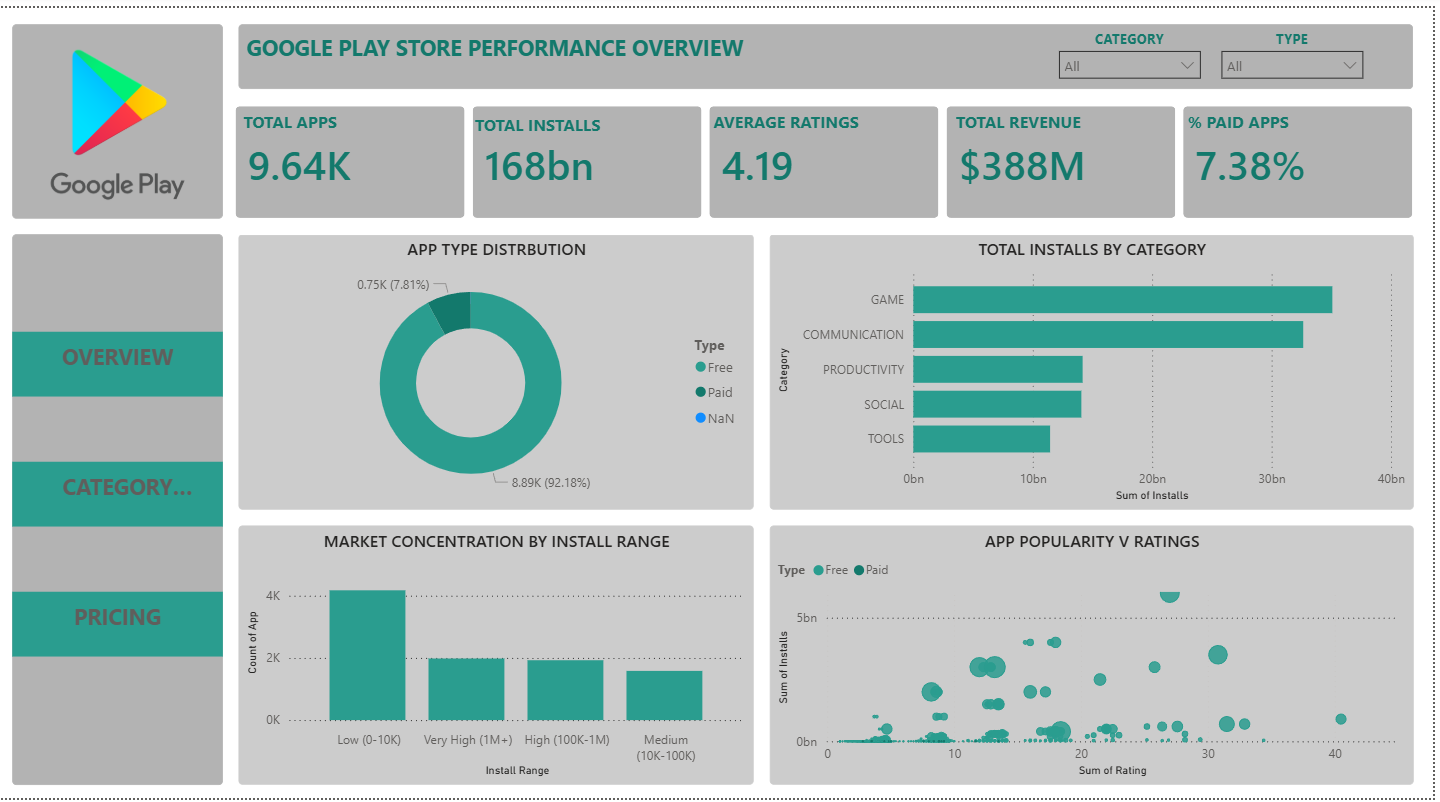

What the dashboard file says about the page in this screenshot:
{"tool":"powerbi","page":{"name":"OVERVIEW","canvas":[1420,780],"ordinal":0},"visuals":[{"type":"textbox","box":[1200,16,160,32],"z":0,"group":"g4"},{"type":"group","id":"g1","title":"Group 1","box":[240,224,1152,544],"z":0},{"type":"clusteredBarChart","title":"TOTAL INSTALLS BY CATEGORY","fields":{"Category":["google_play_store_dataset.Category"],"Y":["Sum(google_play_store_dataset.Installs)"]},"box":[764.4,224,635.6,272],"z":0,"group":"g1"},{"type":"group","id":"g2","title":"Group 5","box":[1040,16,320,64],"z":1000,"group":"g4"},{"type":"cardVisual","fields":{"Data":["Count(google_play_store_dataset.App)","Sum(google_play_store_dataset.Installs)","Avg(google_play_store_dataset.Rating)","Sum(google_play_store_dataset.Revenue)","google_play_store_dataset.% Paid Apps"]},"box":[220,80,1200,144],"z":1000},{"type":"donutChart","title":"APP TYPE DISTRBUTION","fields":{"Category":["google_play_store_dataset.Type"],"Y":["Count(google_play_store_dataset.App)"]},"box":[240,224,508.5,272],"z":1000,"group":"g1"},{"type":"textbox","box":[240,96,224,48],"z":2000,"group":"g3"},{"type":"textbox","box":[16,224,208,544],"z":2000},{"type":"scatterChart","title":"APP POPULARITY V RATINGS","fields":{"X":["Sum(google_play_store_dataset.Rating)"],"Y":["Sum(google_play_store_dataset.Installs)"],"Size":["Sum(google_play_store_dataset.Reviews)"],"Series":["google_play_store_dataset.Type"],"Category":["google_play_store_dataset.App"]},"box":[764.4,512,635.6,256],"z":2000,"group":"g1"},{"type":"group","id":"g3","title":"Group 2","box":[240,96,1152,32],"z":3000},{"type":"textbox","box":[464,96,240,48],"z":3000,"group":"g3"},{"type":"columnChart","title":"MARKET CONCENTRATION BY INSTALL RANGE","fields":{"Category":["google_play_store_dataset.Install Range"],"Y":["Count(google_play_store_dataset.App)"]},"box":[240,512,508.5,256],"z":3000,"group":"g1"},{"type":"textbox","box":[16,16,208,192],"z":4000},{"type":"textbox","box":[704,96,224,48],"z":4000,"group":"g3"},{"type":"textbox","box":[240,16,1160,64],"z":5000},{"type":"textbox","box":[944,96,224,48],"z":5000,"group":"g3"},{"type":"image","box":[16,16,208,192],"z":6000},{"type":"textbox","box":[1168,96,224,48],"z":6000,"group":"g3"},{"type":"group","id":"g4","title":"Group 4","box":[1040,16,320,64],"z":7000},{"type":"slicer","fields":{"Values":["google_play_store_dataset.Category"]},"box":[1040,32,160,48],"z":7000,"group":"g5"},{"type":"slicer","fields":{"Values":["google_play_store_dataset.Type"]},"box":[1200,32,160,48],"z":8000,"group":"g2"},{"type":"textbox","box":[1040,16,160,32],"z":9000,"group":"g5"},{"type":"shape","box":[16,320,208,64],"z":10000},{"type":"group","id":"g5","title":"Group 3","box":[1040,16,160,64],"z":10001,"group":"g2"},{"type":"shape","box":[16,448,208,64],"z":11000},{"type":"shape","box":[16,576,208,64],"z":12000},{"type":"actionButton","box":[16,448,208,48],"z":12250},{"type":"actionButton","box":[16,320,208,48],"z":12500},{"type":"actionButton","box":[16,576,208,48],"z":13000}]}

Visuals, with their boxes in screenshot pixels (x1, y1, x2, y2), scaled from the page's 1420x780 canvas onto the 1440x802 screenshot:
textbox: pyautogui.locateOnScreen(1217, 16, 1379, 49)
"Group 1" group: pyautogui.locateOnScreen(243, 230, 1412, 790)
"TOTAL INSTALLS BY CATEGORY" clusteredBarChart: pyautogui.locateOnScreen(775, 230, 1420, 510)
"Group 5" group: pyautogui.locateOnScreen(1055, 16, 1379, 82)
cardVisual - Count(google_play_store_dataset.App) x Sum(google_play_store_dataset.Installs): pyautogui.locateOnScreen(223, 82, 1439, 230)
"APP TYPE DISTRBUTION" donutChart: pyautogui.locateOnScreen(243, 230, 759, 510)
textbox: pyautogui.locateOnScreen(243, 99, 471, 148)
textbox: pyautogui.locateOnScreen(16, 230, 227, 790)
"APP POPULARITY V RATINGS" scatterChart: pyautogui.locateOnScreen(775, 526, 1420, 790)
"Group 2" group: pyautogui.locateOnScreen(243, 99, 1412, 132)
textbox: pyautogui.locateOnScreen(471, 99, 714, 148)
"MARKET CONCENTRATION BY INSTALL RANGE" columnChart: pyautogui.locateOnScreen(243, 526, 759, 790)
textbox: pyautogui.locateOnScreen(16, 16, 227, 214)
textbox: pyautogui.locateOnScreen(714, 99, 941, 148)
textbox: pyautogui.locateOnScreen(243, 16, 1420, 82)
textbox: pyautogui.locateOnScreen(957, 99, 1184, 148)
image: pyautogui.locateOnScreen(16, 16, 227, 214)
textbox: pyautogui.locateOnScreen(1184, 99, 1412, 148)
"Group 4" group: pyautogui.locateOnScreen(1055, 16, 1379, 82)
slicer - google_play_store_dataset.Category: pyautogui.locateOnScreen(1055, 33, 1217, 82)
slicer - google_play_store_dataset.Type: pyautogui.locateOnScreen(1217, 33, 1379, 82)
textbox: pyautogui.locateOnScreen(1055, 16, 1217, 49)
shape: pyautogui.locateOnScreen(16, 329, 227, 395)
"Group 3" group: pyautogui.locateOnScreen(1055, 16, 1217, 82)
shape: pyautogui.locateOnScreen(16, 461, 227, 526)
shape: pyautogui.locateOnScreen(16, 592, 227, 658)
actionButton: pyautogui.locateOnScreen(16, 461, 227, 510)
actionButton: pyautogui.locateOnScreen(16, 329, 227, 378)
actionButton: pyautogui.locateOnScreen(16, 592, 227, 642)
